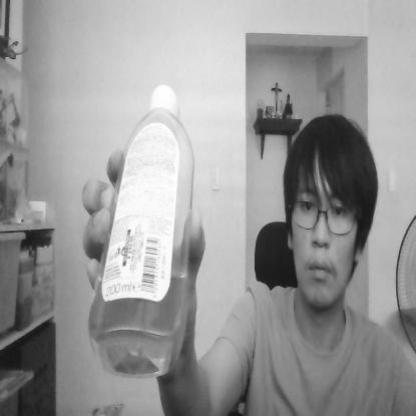Plastic Bottle: (85, 73, 206, 390)
